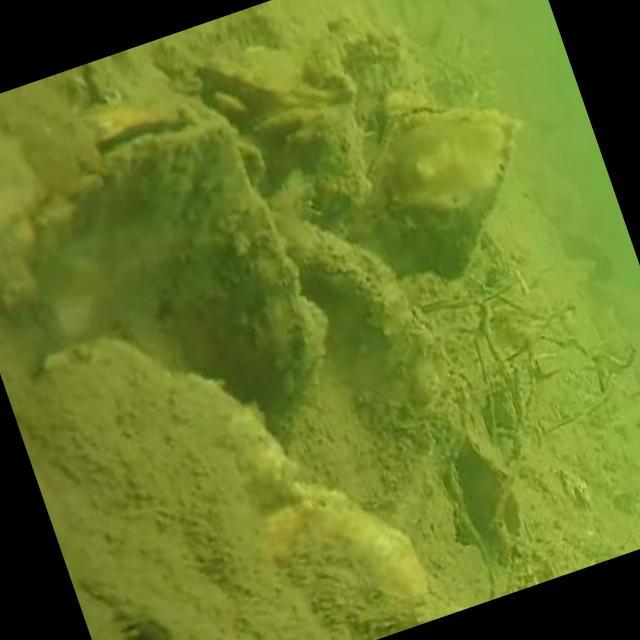Oyster- Indeterminate: (0, 297, 452, 640), (0, 52, 386, 443), (358, 93, 521, 288), (241, 84, 394, 251), (437, 387, 526, 553), (192, 50, 317, 112), (504, 493, 522, 535)
Oyster-Closed: (267, 179, 448, 432)
